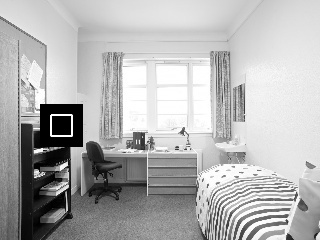square: (40, 103, 83, 146)
